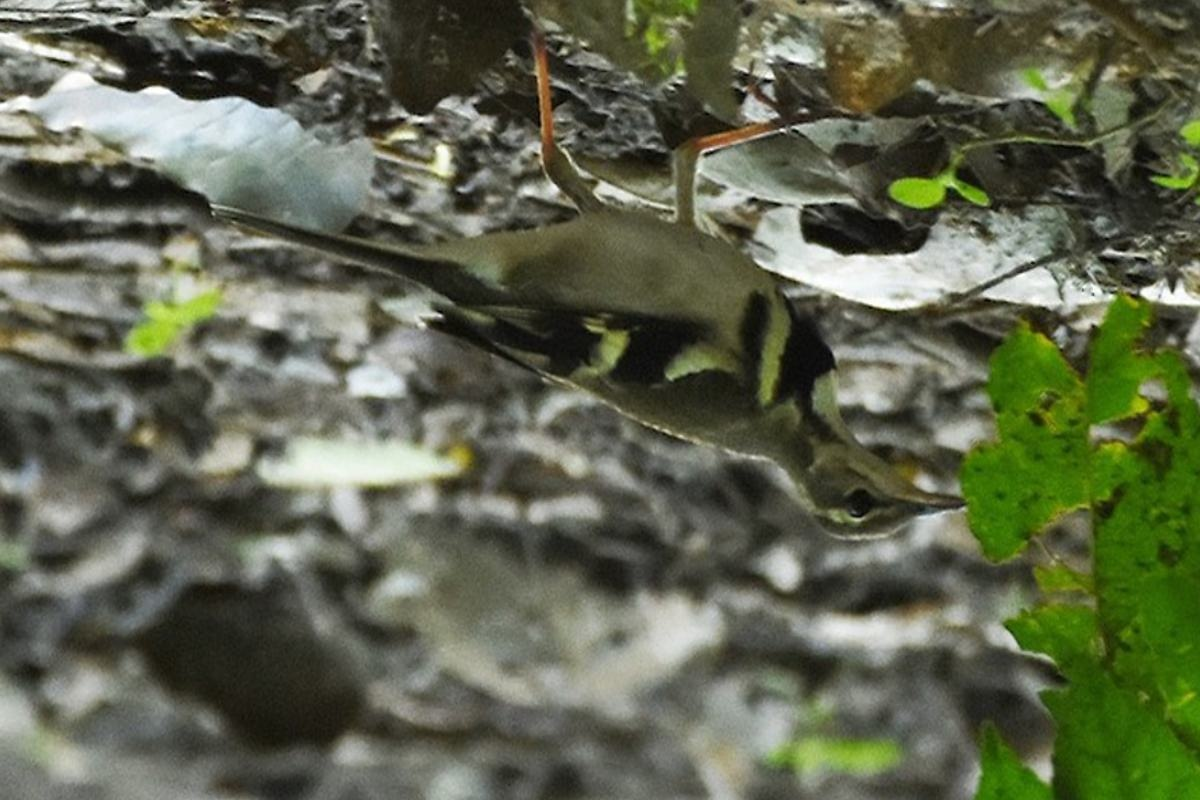wagtail: (329, 145, 968, 557)
